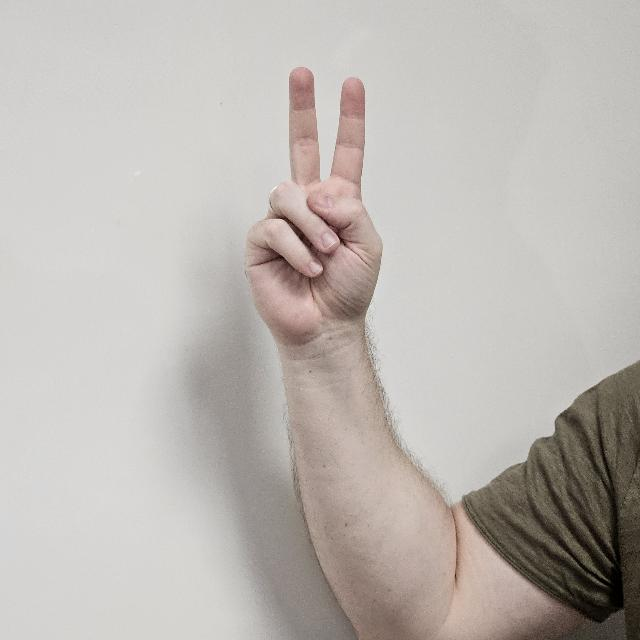Triangulo: (246, 66, 384, 364)
